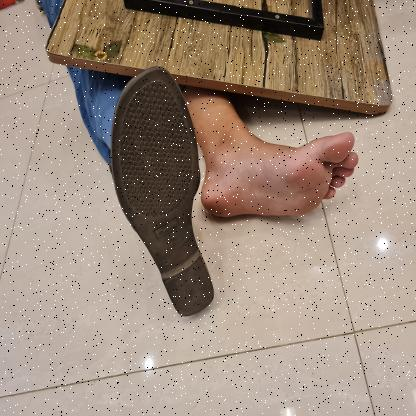leg: (186, 86, 361, 224)
